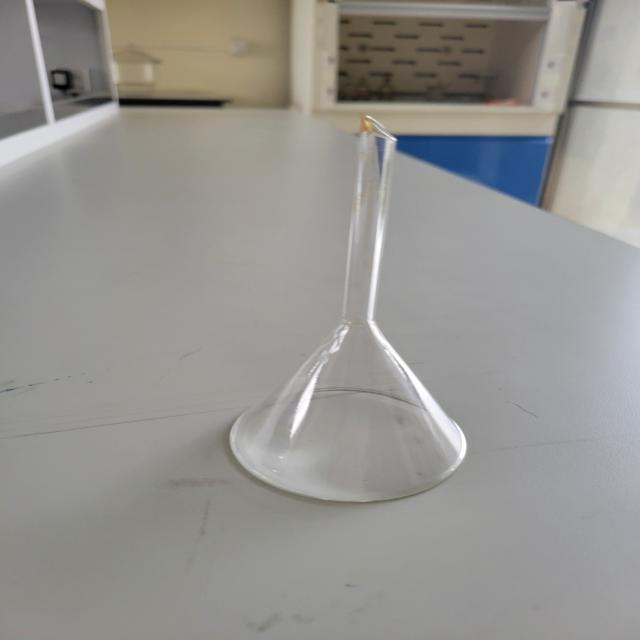Funnel: (193, 88, 517, 538)
